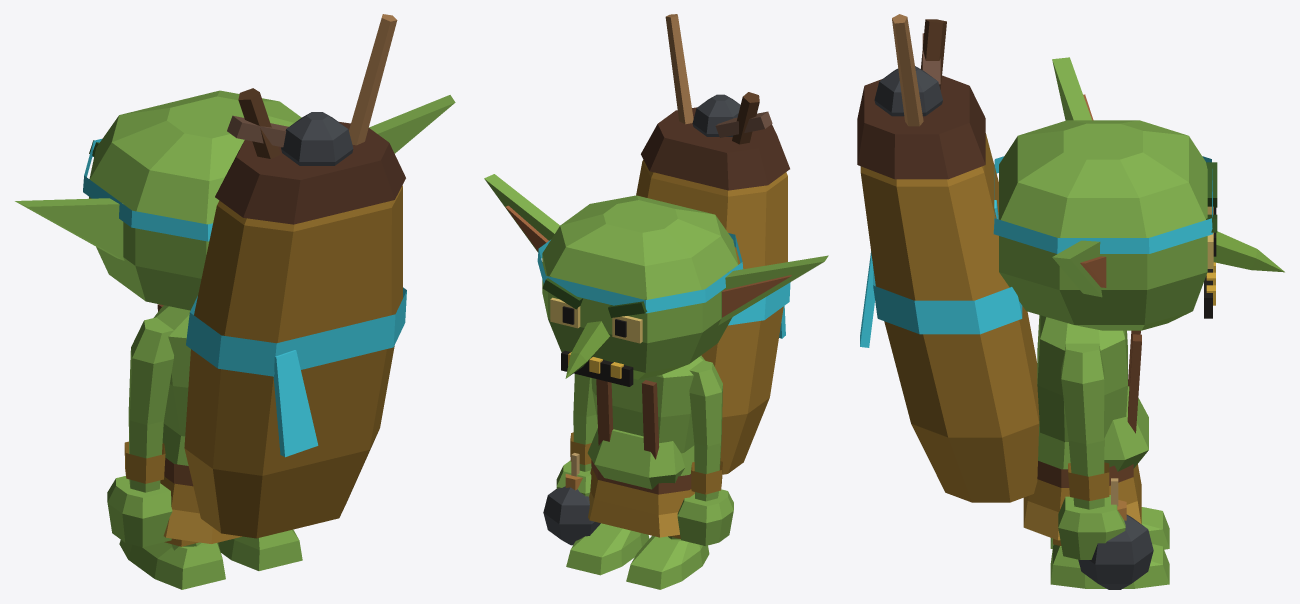
Rendered from CH_PitGoblin_Ratcatcher.fbx.
3 renders of one model, left to right at view 1: azimuth 30°, elevation 25°; view 2: azimuth 150°, elevation 25°; view 3: azimuth 270°, elevation 25°, orthographic. The views are drawn at different scales.
Visible parts, largest first — view 1: Body, Head, ArmL, LegL, LegR; view 2: Body, Head, ArmL, ArmR, LegL, LegR; view 3: Body, Head, ArmR, LegR, LegL.
Boxes of the visible parts, <box> form: Body: <box>153,14,406,543</box>; Head: <box>15,90,455,310</box>; ArmL: <box>107,317,173,547</box>; LegL: <box>119,538,225,589</box>; LegR: <box>218,529,302,570</box>; Body: <box>587,14,790,537</box>; Head: <box>484,174,828,386</box>; ArmL: <box>677,360,733,545</box>; ArmR: <box>543,374,600,545</box>; LegL: <box>626,535,709,589</box>; LegR: <box>566,523,649,575</box>; Body: <box>857,14,1148,540</box>; Head: <box>993,57,1284,330</box>; ArmR: <box>1058,343,1153,589</box>; LegR: <box>1050,538,1169,588</box>; LegL: <box>1050,507,1169,549</box>.
Bounding box in the file's own units: 1.04 × 0.9349 × 1.37.
